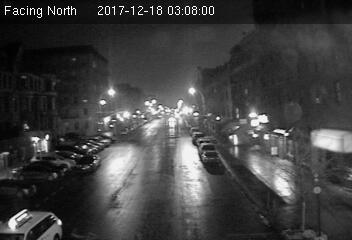car: (1, 205, 65, 240), (76, 155, 101, 172), (201, 150, 220, 165)
